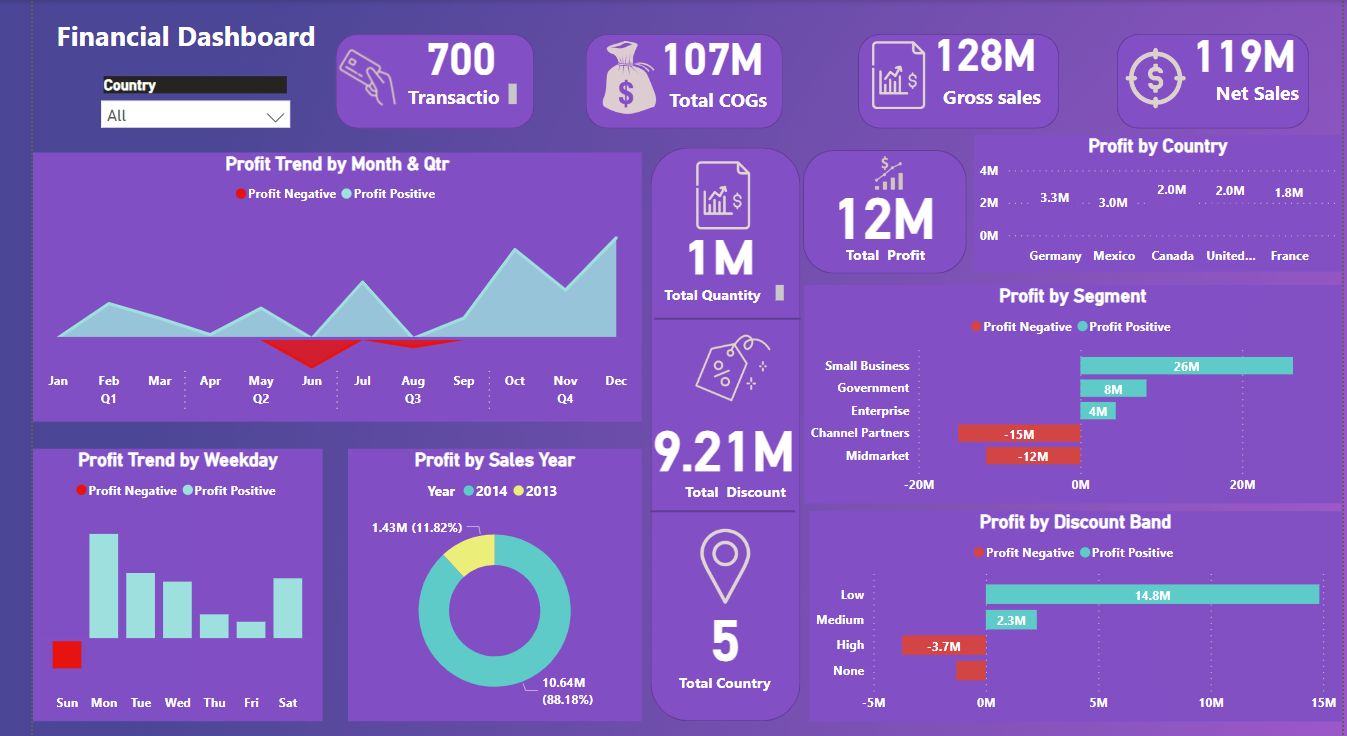

Layout of this report page (visuals, bound fields, positions):
{"tool":"powerbi","page":{"name":"Page 1","canvas":[1280,720],"ordinal":0},"visuals":[{"type":"shape","box":[295.8,33,194.4,92.9],"z":0},{"type":"shape","box":[540.3,33,193.1,92.9],"z":1000},{"type":"shape","box":[806.8,33,196.8,92.9],"z":2000},{"type":"shape","box":[1059.8,33,188.3,92.9],"z":3000},{"type":"card","fields":{"Values":["All Measures.# Transaction"]},"box":[361.8,13.4,113.7,79.5],"z":4000},{"type":"card","fields":{"Values":["All Measures.COGS"]},"box":[607.5,18.3,112.5,69.7],"z":5000},{"type":"card","fields":{"Values":["All Measures.Gross sales"]},"box":[875.2,11,111.2,77],"z":6000},{"type":"card","fields":{"Values":["All Measures.Net sales"]},"box":[1121,15.9,127.1,69.7],"z":7000},{"type":"image","box":[540.3,33,85.6,85.6],"z":8000},{"type":"image","box":[292.2,33,69.7,85.6],"z":9000},{"type":"image","box":[806.8,33,78.2,80.7],"z":10000},{"type":"image","box":[1059.8,39.1,75.8,74.6],"z":11000},{"type":"textbox","box":[361.8,77,116.1,41.6],"z":12000},{"type":"textbox","box":[617.3,79.5,133.2,41.6],"z":13000},{"type":"textbox","box":[885,77,118.6,37.9],"z":14000},{"type":"textbox","box":[1151.5,73.3,128.4,41.6],"z":15000},{"type":"areaChart","title":"Profit Trend  by Month & Qtr","fields":{"Category":["Calender.Qtr","Calender.Month"],"Y":["All Measures.Profit Negative","All Measures.Profit Positive"]},"box":[0,149.1,595.3,262.8],"z":16000},{"type":"columnChart","title":"Profit Trend  by Weekday","fields":{"Category":["Calender.Weekday"],"Y":["All Measures.Profit Negative","All Measures.Profit Positive"]},"box":[0,438.8,283.6,266.5],"z":17000},{"type":"donutChart","title":"Profit by Sales Year","fields":{"Category":["Calender.Year"],"Y":["All Measures.Total Profit"]},"box":[308,438.8,287.3,266.5],"z":18000},{"type":"shape","box":[603.9,144.2,146.7,561.1],"z":19000},{"type":"shape","box":[607.5,304.4,143,14.7],"z":20000},{"type":"shape","box":[603.9,492.6,141.8,14.7],"z":21000},{"type":"textbox","box":[601.4,273.8,138.1,30.6],"z":22000},{"type":"textbox","box":[607.5,652.8,138.1,52.6],"z":23000},{"type":"textbox","box":[612.4,465.7,149.1,30.6],"z":24000},{"type":"card","fields":{"Values":["Sum(financials.Units Sold)"]},"box":[605.1,221.3,132,52.6],"z":25000},{"type":"card","fields":{"Values":["All Measures.Total discount"]},"box":[597.8,403.4,155.2,62.3],"z":26000},{"type":"card","fields":{"Values":["Count(financials.Country)"]},"box":[599,585.5,155.2,67.2],"z":27000},{"type":"image","box":[612.4,150.4,124.7,81.9],"z":28000},{"type":"image","box":[634.4,319,99,81.9],"z":29000},{"type":"image","box":[645.4,506.1,62.3,96.6],"z":30000},{"type":"shape","box":[753,146.7,160.1,121],"z":31000},{"type":"textbox","box":[759.1,234.7,149.1,30.6],"z":32000},{"type":"card","fields":{"Values":["All Measures.Total Profit"]},"box":[753,173.6,158.9,67.2],"z":33000},{"type":"image","box":[788.5,146.7,96.6,45.2],"z":34000},{"type":"barChart","title":"Profit by Segment","fields":{"Category":["financials.Segment"],"Y":["All Measures.Profit Negative","All Measures.Profit Positive"]},"box":[754.2,278.7,525.6,213.9],"z":35000},{"type":"barChart","title":"Profit by Discount Band","fields":{"Y":["All Measures.Profit Negative","All Measures.Profit Positive"],"Category":["financials.Discount Band"]},"box":[759.1,500,520.7,205.4],"z":35001},{"type":"columnChart","title":"Profit by Segment","fields":{"Category":["financials.Country"],"Y":["All Measures.Total Profit"]},"box":[920.5,132,359.4,133.2],"z":35002},{"type":"textbox","box":[0,11,299.5,73.3],"z":35003},{"type":"slicer","fields":{"Values":["financials.Country"]},"box":[56.2,69.7,205.4,55],"z":35004}]}

Visuals, with their boxes in screenshot pixels (x1, y1, x2, y2), scaled from the page's 1280x720 canvas onto the 1347x736 screenshot:
shape: select_region(311, 34, 516, 129)
shape: select_region(569, 34, 772, 129)
shape: select_region(849, 34, 1056, 129)
shape: select_region(1115, 34, 1313, 129)
card - All Measures.# Transaction: select_region(381, 14, 500, 95)
card - All Measures.COGS: select_region(639, 19, 758, 90)
card - All Measures.Gross sales: select_region(921, 11, 1038, 90)
card - All Measures.Net sales: select_region(1180, 16, 1313, 88)
image: select_region(569, 34, 659, 121)
image: select_region(307, 34, 381, 121)
image: select_region(849, 34, 931, 116)
image: select_region(1115, 40, 1195, 116)
textbox: select_region(381, 79, 503, 121)
textbox: select_region(650, 81, 790, 124)
textbox: select_region(931, 79, 1056, 117)
textbox: select_region(1212, 75, 1346, 117)
"Profit Trend  by Month & Qtr" areaChart: select_region(0, 152, 626, 421)
"Profit Trend  by Weekday" columnChart: select_region(0, 449, 298, 721)
"Profit by Sales Year" donutChart: select_region(324, 449, 626, 721)
shape: select_region(636, 147, 790, 721)
shape: select_region(639, 311, 790, 326)
shape: select_region(636, 504, 785, 519)
textbox: select_region(633, 280, 778, 311)
textbox: select_region(639, 667, 785, 721)
textbox: select_region(644, 476, 801, 507)
card - Sum(financials.Units Sold): select_region(637, 226, 776, 280)
card - All Measures.Total discount: select_region(629, 412, 792, 476)
card - Count(financials.Country): select_region(630, 599, 794, 667)
image: select_region(644, 154, 776, 237)
image: select_region(668, 326, 772, 410)
image: select_region(679, 517, 745, 616)
shape: select_region(792, 150, 961, 274)
textbox: select_region(799, 240, 956, 271)
card - All Measures.Total Profit: select_region(792, 177, 960, 246)
image: select_region(830, 150, 931, 196)
"Profit by Segment" barChart: select_region(794, 285, 1346, 504)
"Profit by Discount Band" barChart: select_region(799, 511, 1346, 721)
"Profit by Segment" columnChart: select_region(969, 135, 1346, 271)
textbox: select_region(0, 11, 315, 86)
slicer - financials.Country: select_region(59, 71, 275, 127)
